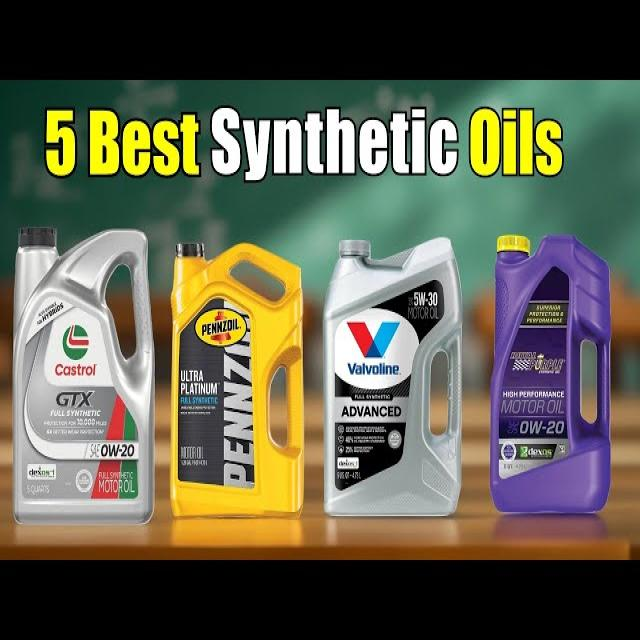motor_oil: (319, 228, 472, 518), (9, 213, 149, 522), (165, 246, 314, 516), (488, 226, 614, 526)
